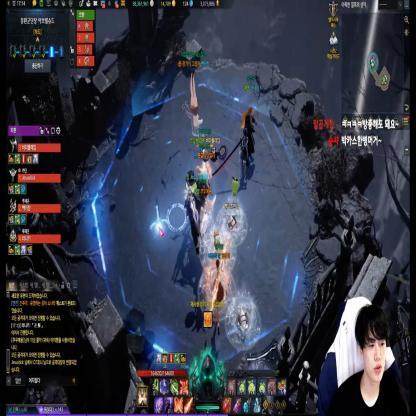streamer: (326, 304, 408, 416)
